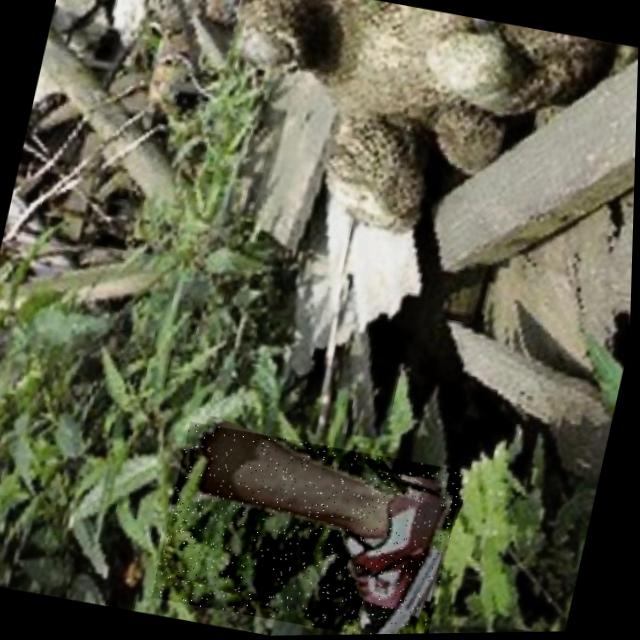Person in Rubble: (154, 418, 469, 638)
